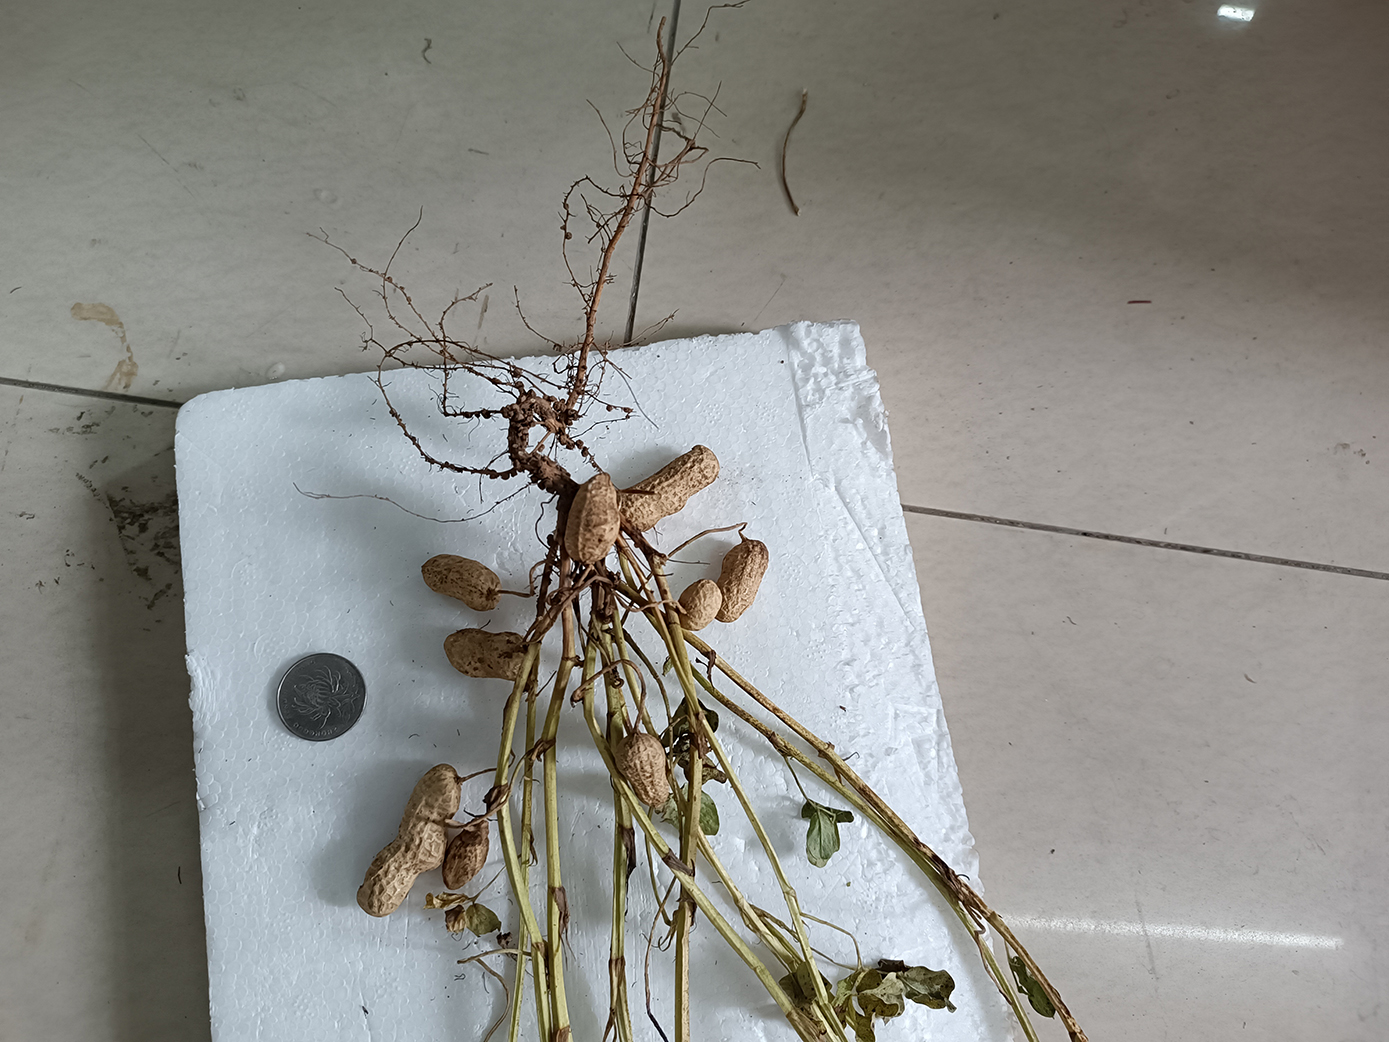h: (360, 765, 462, 917), (620, 444, 720, 530), (563, 471, 620, 561), (421, 553, 500, 610), (443, 629, 529, 680), (718, 539, 769, 620), (618, 738, 675, 803), (678, 578, 722, 630)
l: (443, 833, 488, 888)
